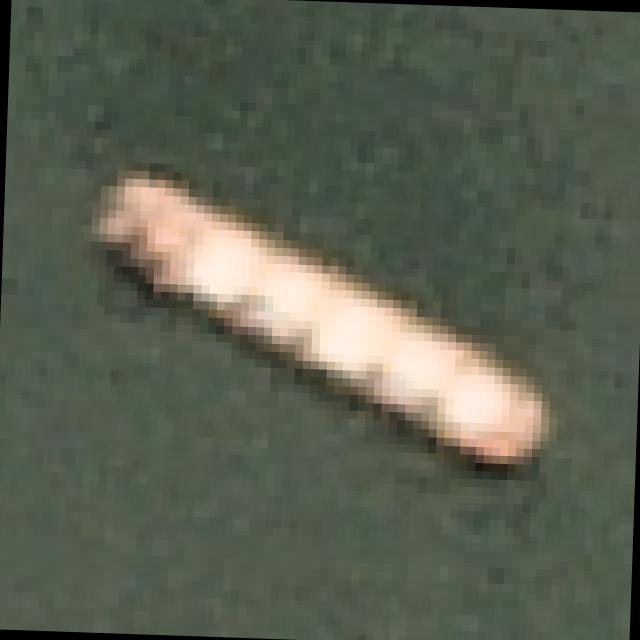ship: (62, 126, 574, 505)
